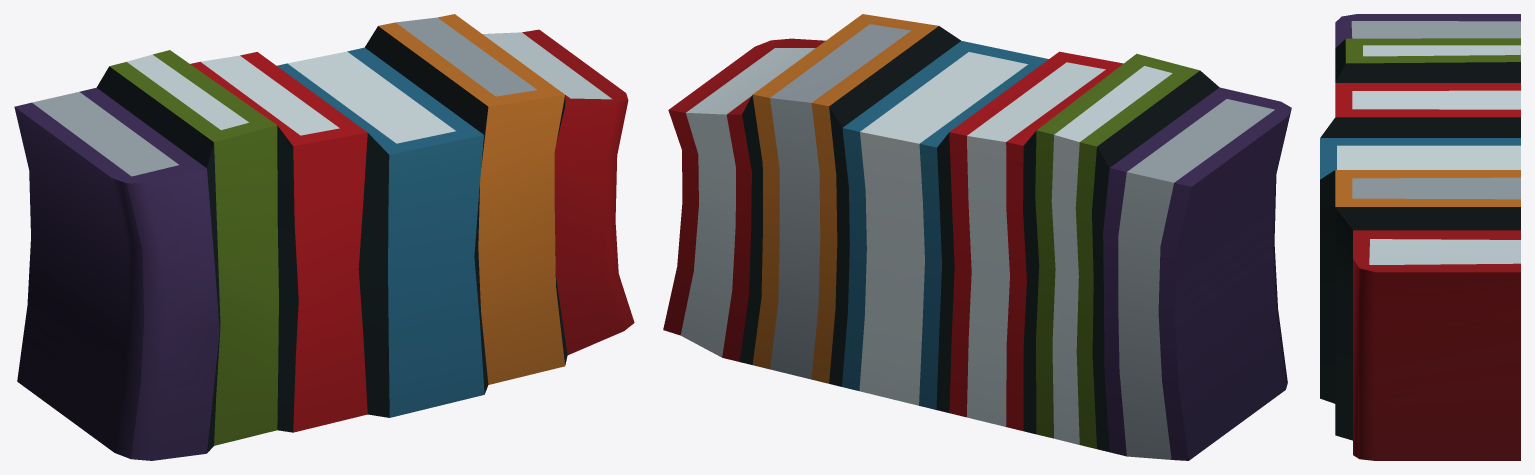
File: books3_LOD_setup.fbx
The picture shows the model from 3 angles, left to right: view 1: azimuth 30°, elevation 25°; view 2: azimuth 150°, elevation 25°; view 3: azimuth 270°, elevation 25°; orthographic projection. The views are drawn at different scales.
Visible parts, largest first — view 1: books3_LOD0; view 2: books3_LOD0; view 3: books3_LOD0.
Boxes of the visible parts, x1,y1,x2,y2 form: books3_LOD0: (14,14,634,460); books3_LOD0: (663,14,1291,460); books3_LOD0: (1320,14,1520,460).
Size of what is drawn, in the model's own units: 71.32 by 39.22 by 27.83.
